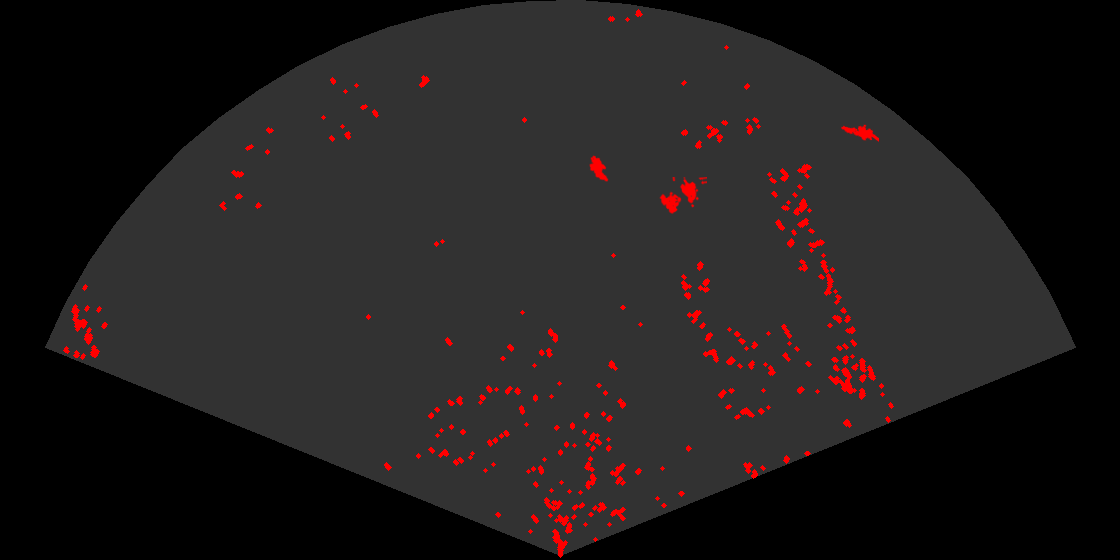AUV: (588, 154, 610, 183)
cage: (658, 177, 707, 216)
frogman: (840, 123, 879, 144)
